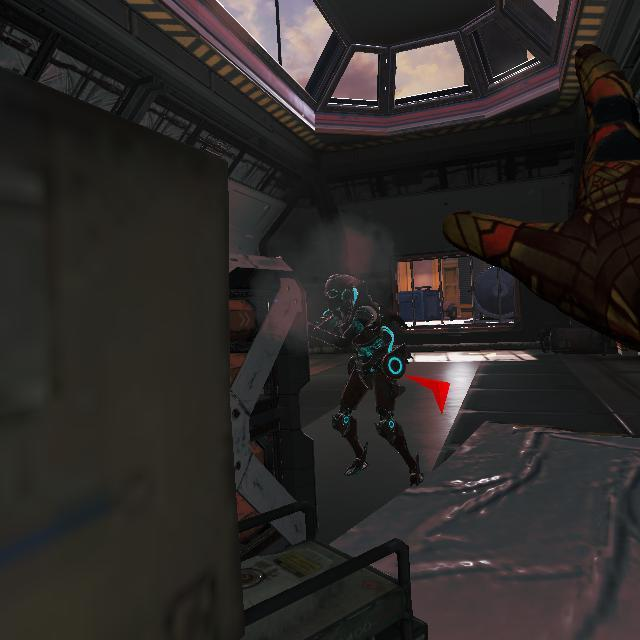avatar: (309, 271, 426, 492)
